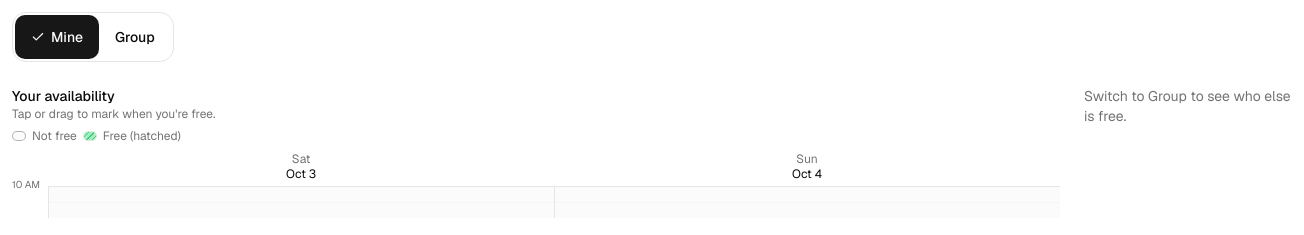
Test case: AvailabilityGrid › explains an empty group
Click the button "Group" at (135, 37), box [99, 15, 171, 59]
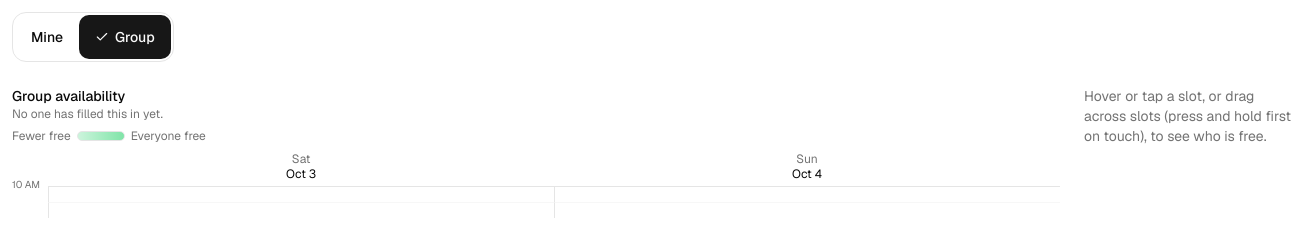
Result: the text "No one has filled this in yet." is shown at [12, 106, 163, 122]
